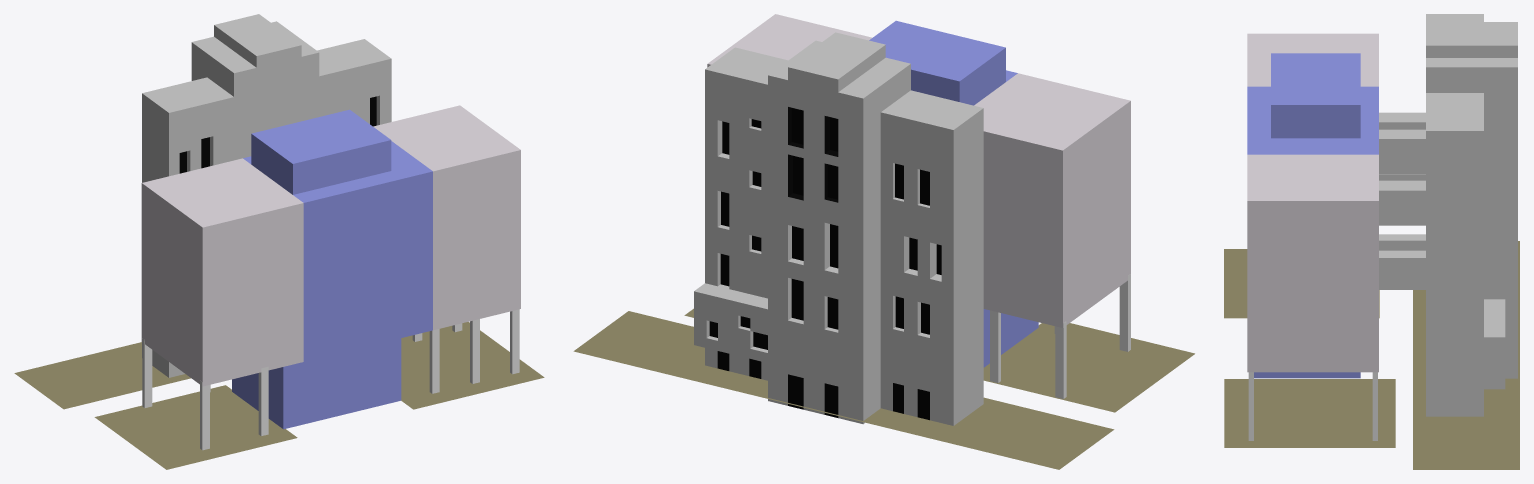
File: predio.fbx
3 renders of one model, left to right at view 1: azimuth 30°, elevation 25°; view 2: azimuth 150°, elevation 25°; view 3: azimuth 270°, elevation 25°, orthographic. The views are drawn at different scales.
Visible parts, largest first — view 1: Cubo, Cubo.011, Plano.001, Plano.002, Plano.003, Cubo.007, Cubo.005, Cubo.010, Cubo.009, Cubo.001, Cubo.003; view 2: Cubo.011, Cubo, Plano.003, Plano.001, Cubo.010, Cubo.009, Cubo.008; view 3: Cubo, Cubo.011, Plano.002, Plano.003, Plano.001, Cubo.001, Cubo.002.
Boxes of the visible parts, <box> form: Cubo: <box>141,105,520,429</box>; Cubo.011: <box>142,14,391,377</box>; Plano.001: <box>94,385,297,469</box>; Plano.002: <box>401,322,544,409</box>; Plano.003: <box>14,342,190,409</box>; Cubo.007: <box>258,366,268,436</box>; Cubo.005: <box>429,329,439,393</box>; Cubo.010: <box>142,338,152,407</box>; Cubo.009: <box>200,381,209,450</box>; Cubo.001: <box>510,309,519,374</box>; Cubo.003: <box>470,319,479,383</box>; Cubo.011: <box>694,32,983,425</box>; Cubo: <box>707,14,1130,367</box>; Plano.003: <box>573,311,1114,469</box>; Plano.001: <box>983,323,1194,412</box>; Cubo.010: <box>1055,321,1066,398</box>; Cubo.009: <box>1119,274,1130,351</box>; Cubo.008: <box>990,310,1000,382</box>; Cubo: <box>1247,33,1378,378</box>; Cubo.011: <box>1379,14,1517,416</box>; Plano.002: <box>1224,379,1395,447</box>; Plano.003: <box>1413,241,1519,469</box>; Plano.001: <box>1224,249,1379,318</box>; Cubo.001: <box>1248,372,1253,440</box>; Cubo.002: <box>1372,372,1377,440</box>.
Size of the model in its own units: 1863 by 1241 by 1018.
